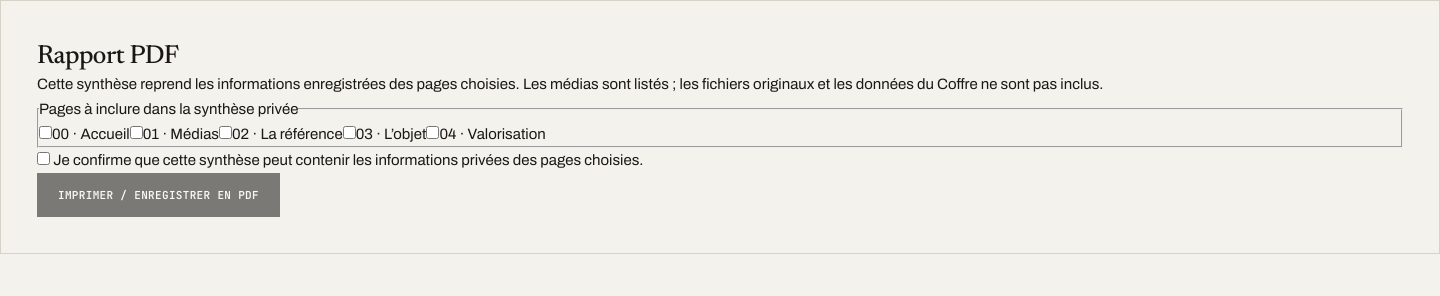
Test: la synthèse exige pages et confirmation ; elle ne promet jamais un PDF enregistré
The width and height of the screenshot is (1440, 296).
Check: the button "Imprimer / Enregistrer en PDF" is disabled, box x1=37 y1=173 x2=280 y2=217
Click the checkbox labelled "00 · Accueil" at (46,132), box x1=39 y1=126 x2=52 y2=139
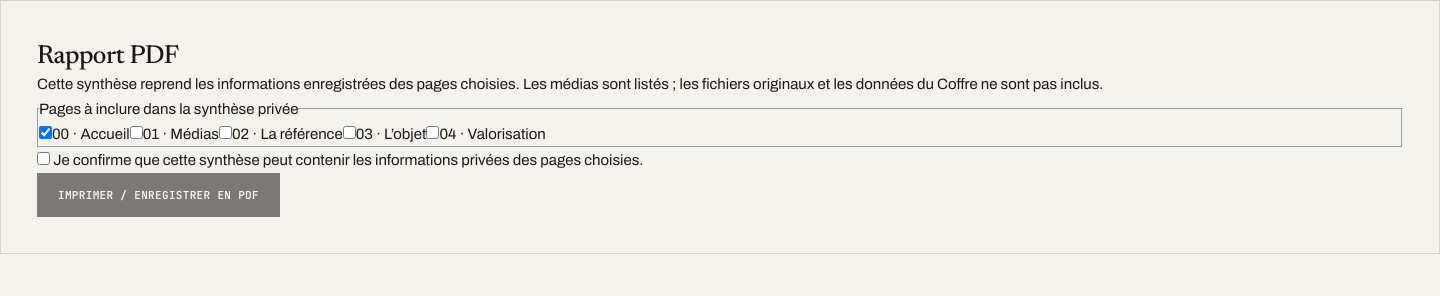
Check: the button "Imprimer / Enregistrer en PDF" is disabled, box x1=37 y1=173 x2=280 y2=217
Click the checkbox labelled "Je confirme que cette synthèse" at (44,159), box x1=37 y1=152 x2=50 y2=165
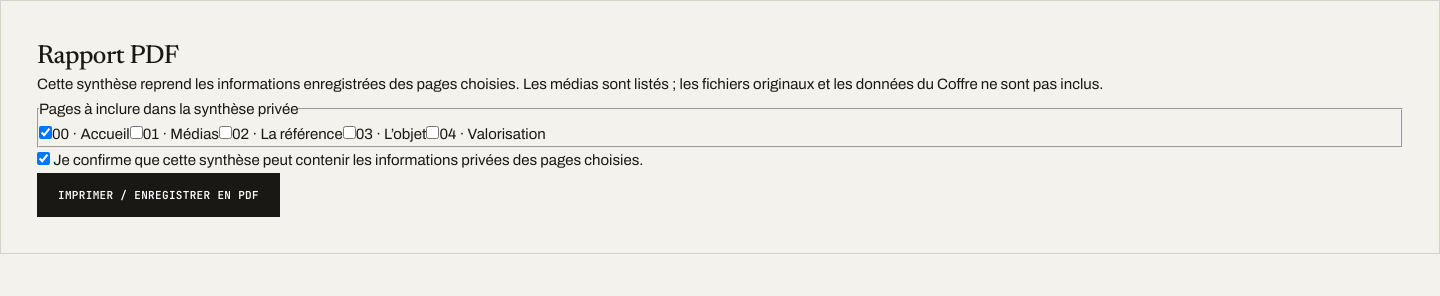
Click the button "Imprimer / Enregistrer en PDF" at (158,195), box x1=37 y1=173 x2=280 y2=217
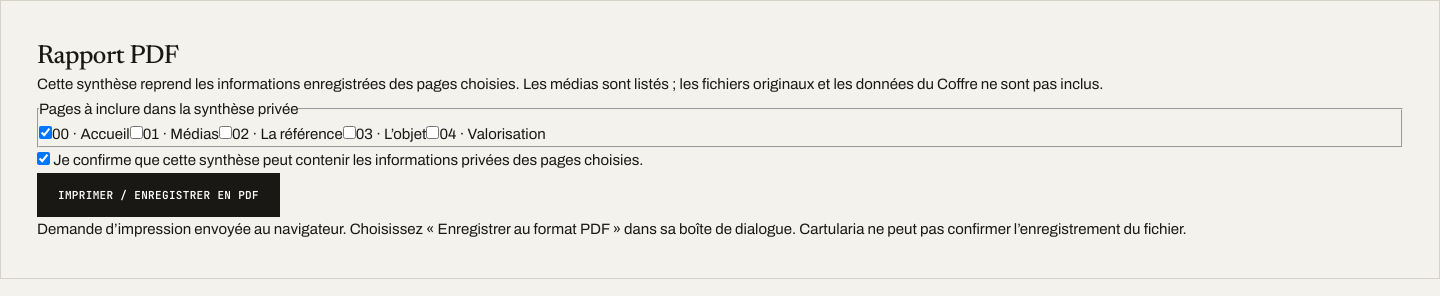
Check: the message shows "ne peut pas confirmer l’enregistrement", box x1=37 y1=221 x2=1187 y2=237
Click the checkbox labelled "03 · L’objet" at (349,132), box x1=343 y1=126 x2=356 y2=139
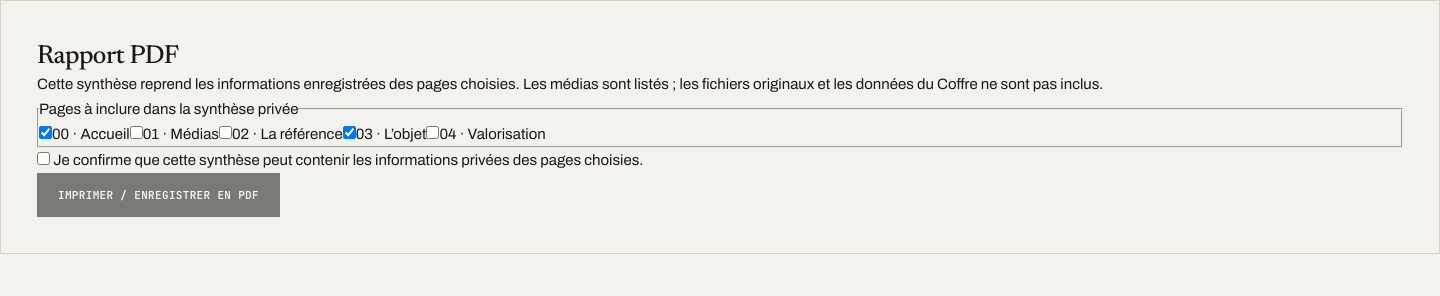
Check: the button "Imprimer / Enregistrer en PDF" is disabled, box x1=37 y1=173 x2=280 y2=217
